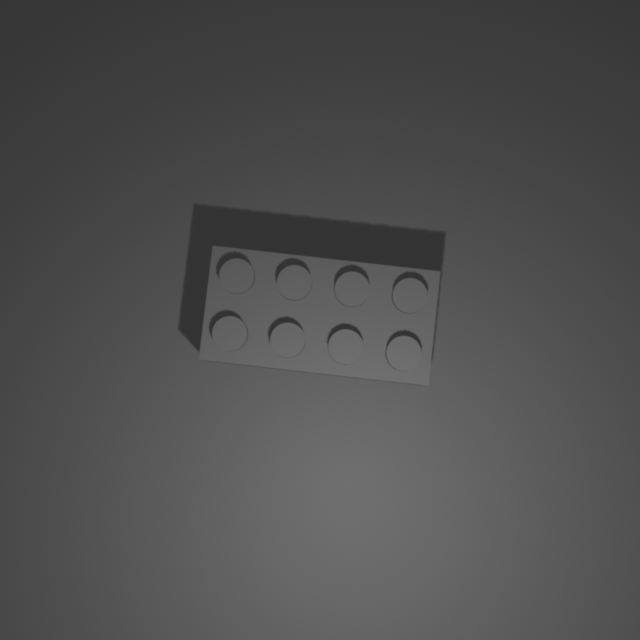lego_2x4: (197, 244, 442, 386)
